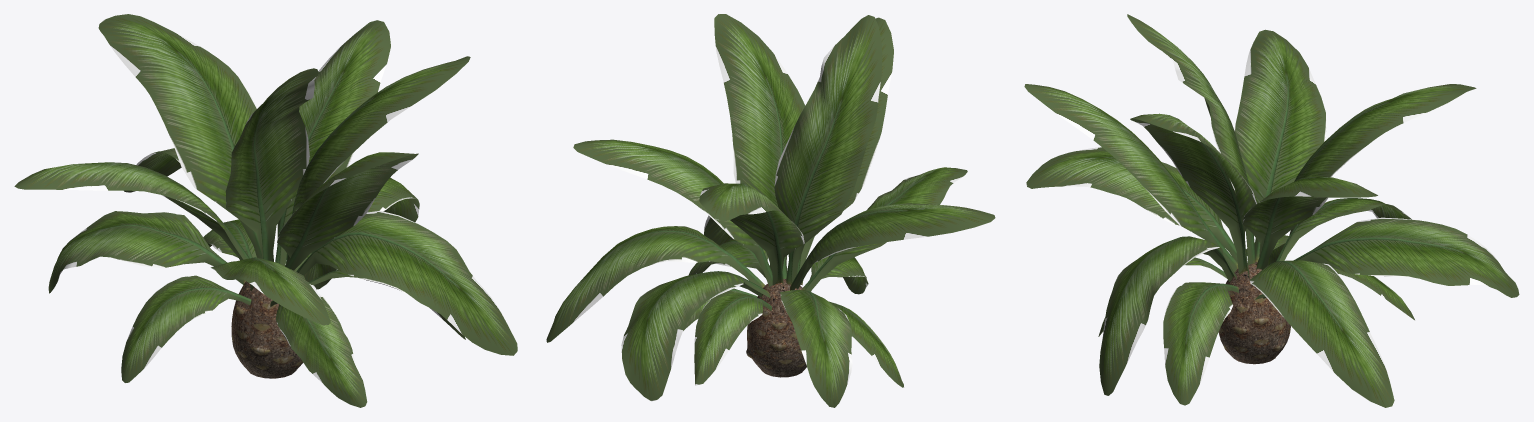
Rendered from palmera1.obj.
3 renders of one model, left to right at view 1: azimuth 30°, elevation 25°; view 2: azimuth 150°, elevation 25°; view 3: azimuth 270°, elevation 25°, orthographic. The views are drawn at different scales.
Visible parts, largest first — view 1: Object_AM113_064_Phoenic_canariensis_Color_jpg; view 2: Object_AM113_064_Phoenic_canariensis_Color_jpg; view 3: Object_AM113_064_Phoenic_canariensis_Color_jpg.
Boxes of the visible parts, x1,y1,x2,y2 form: Object_AM113_064_Phoenic_canariensis_Color_jpg: [14, 14, 517, 407]; Object_AM113_064_Phoenic_canariensis_Color_jpg: [546, 14, 995, 407]; Object_AM113_064_Phoenic_canariensis_Color_jpg: [1024, 14, 1519, 407].
Bounding box in the file's own units: 2.37 × 1.82 × 2.5.
Materials: 1 (1 with a texture image).
